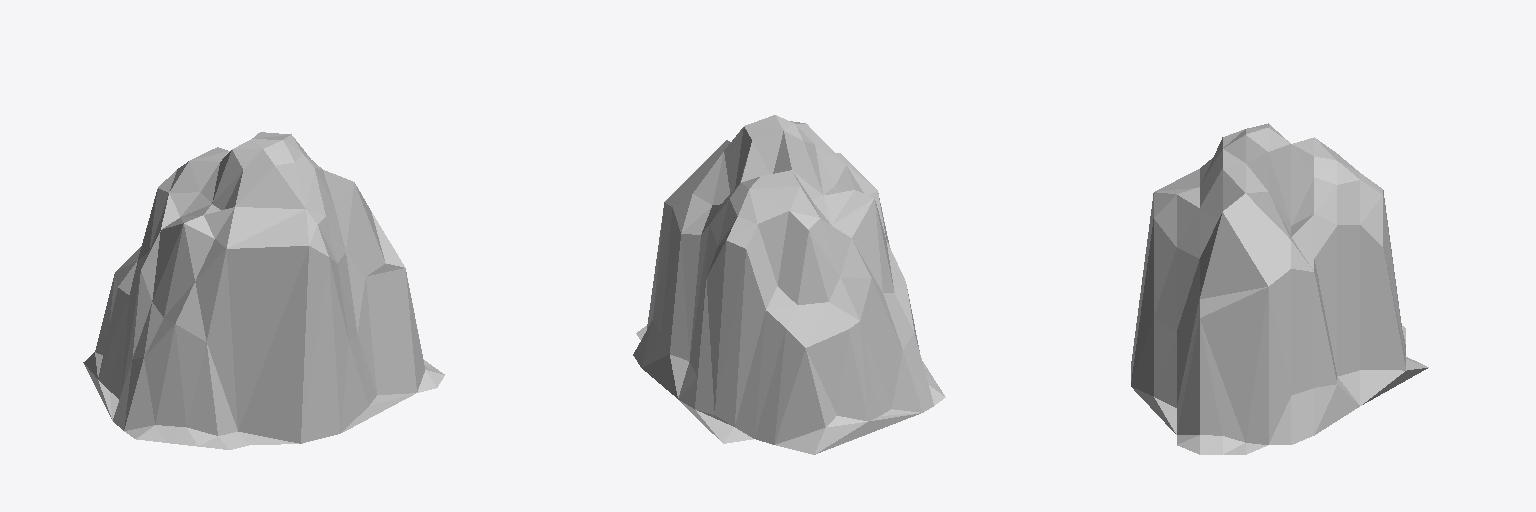
File: tree_71.obj
3 views of the same model, side by side, from view 1: azimuth 30°, elevation 25°; view 2: azimuth 150°, elevation 25°; view 3: azimuth 270°, elevation 25° (orthographic).
Visible parts, largest first — view 1: tree_71_minus_dtm.001; view 2: tree_71_minus_dtm.001; view 3: tree_71_minus_dtm.001.
Boxes of the visible parts, x1=… form: tree_71_minus_dtm.001: x1=83, y1=132, x2=444, y2=449; tree_71_minus_dtm.001: x1=633, y1=115, x2=945, y2=454; tree_71_minus_dtm.001: x1=1131, y1=123, x2=1428, y2=454.
Bounding box in the file's own units: 15 × 12.13 × 13.